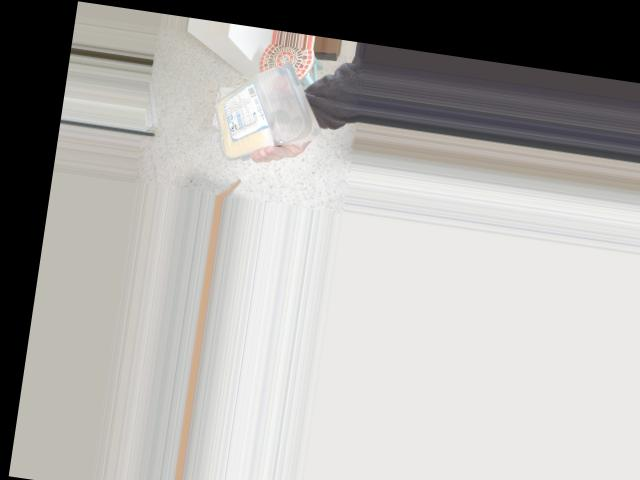cheese: (202, 51, 314, 157)
